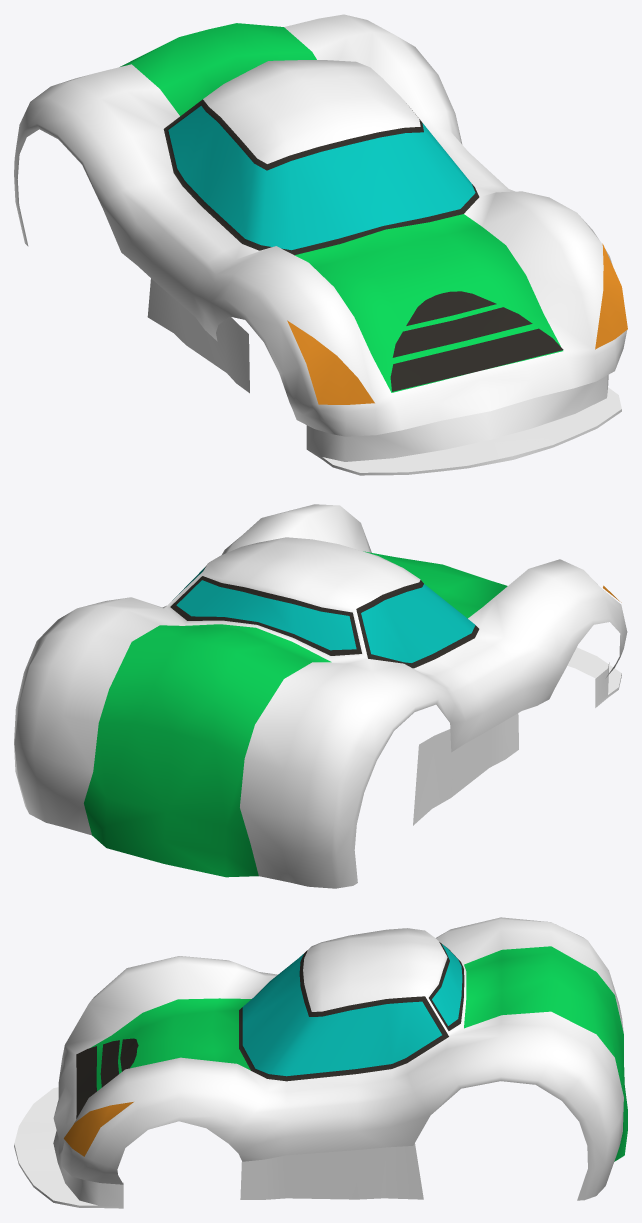
Rendered from LuxCasing01R02.gltf.
3 views of the same model, one above another, from view 1: azimuth 30°, elevation 25°; view 2: azimuth 150°, elevation 25°; view 3: azimuth 270°, elevation 25° (orthographic). The views are drawn at different scales.
Visible parts, largest first — view 1: LuxCasing01R02; view 2: LuxCasing01R02; view 3: LuxCasing01R02.
Part boxes in pixels (x1,y1,x2,y2): LuxCasing01R02: [14, 14, 627, 475]; LuxCasing01R02: [14, 504, 627, 888]; LuxCasing01R02: [14, 917, 627, 1208].
Bounding box in the file's own units: 0.2129 × 0.1281 × 0.3597.
